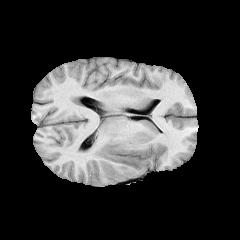glioma: (94, 140, 145, 174)
